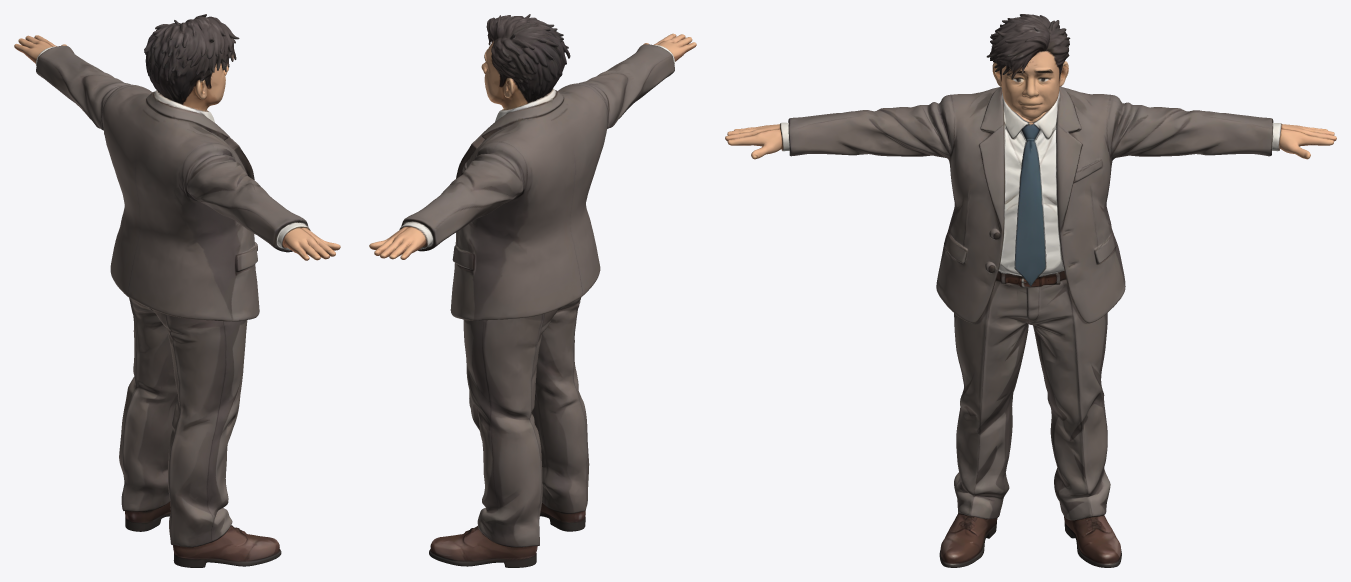
The model's file is salaryman-visitor-04.glb.
3 renders of one model, left to right at view 1: azimuth 30°, elevation 25°; view 2: azimuth 150°, elevation 25°; view 3: azimuth 270°, elevation 25°, orthographic.
Visible parts, largest first — view 1: tripo_node_4ff46fb9-dcd2-4415-adcc-7c35805d8386; view 2: tripo_node_4ff46fb9-dcd2-4415-adcc-7c35805d8386; view 3: tripo_node_4ff46fb9-dcd2-4415-adcc-7c35805d8386.
Boxes of the visible parts, <box> form: tripo_node_4ff46fb9-dcd2-4415-adcc-7c35805d8386: <box>14,14,340,567</box>; tripo_node_4ff46fb9-dcd2-4415-adcc-7c35805d8386: <box>369,14,696,567</box>; tripo_node_4ff46fb9-dcd2-4415-adcc-7c35805d8386: <box>725,14,1336,567</box>.
Size of the model in its own units: 0.2246 by 0.95 by 0.9998.
Materials: 1 (1 with a texture image).
